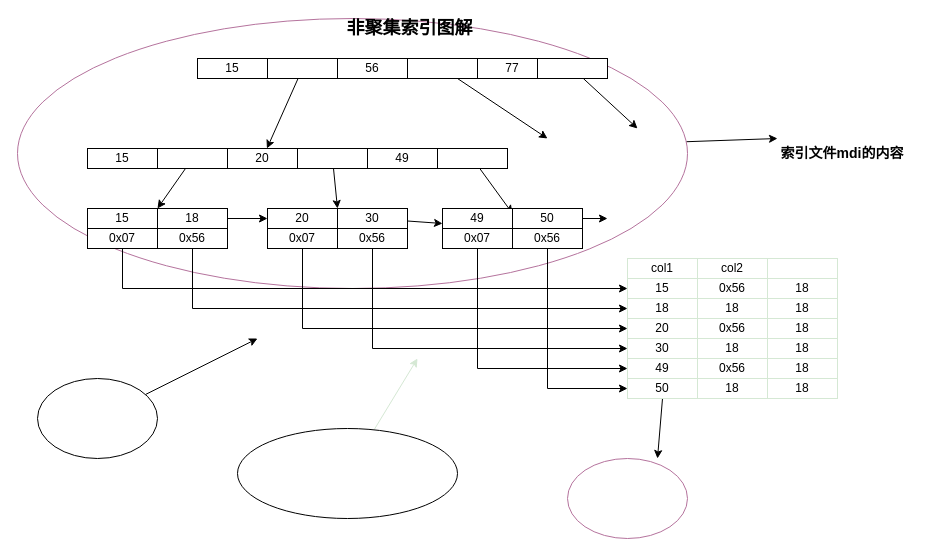
The diagram is 925 pixels wide and 556 high, and some of its shapes have lost their labels. The shapes that lost their labels are listed below. From the top down, each one's box as (x1, y1, x2, y2) in pixels, then its label:
(766, 258, 838, 278): col3
(36, 378, 158, 458): MyISAM中B+树索引的叶子节点存储的是数据的指针地址
(236, 428, 458, 518): 通过索引树找到对应的索引， 通过索引中存储的记录指针， 找到数据文件中对应的数据记录
(566, 458, 688, 538): 数据文件ibd中的内容
